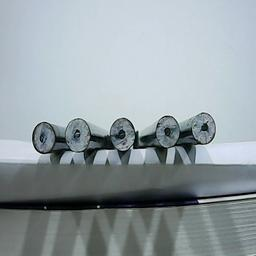pen: (32, 122, 57, 155), (190, 111, 215, 144), (155, 114, 180, 147), (110, 118, 135, 151), (64, 119, 89, 152)
